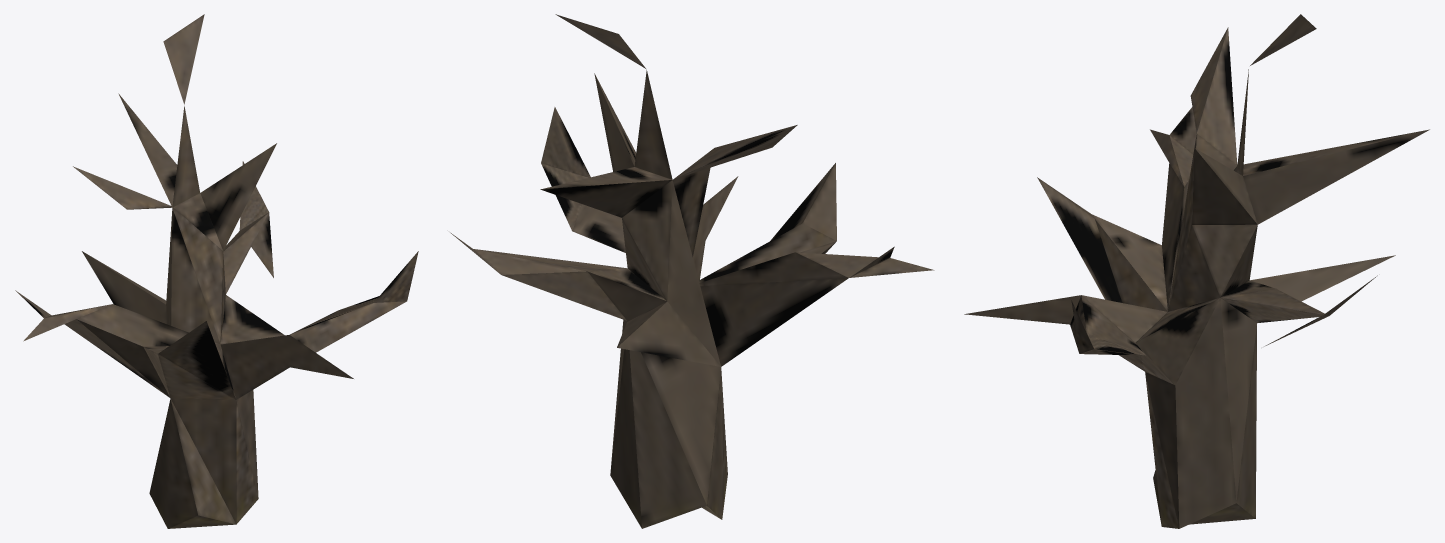
The picture shows the model from 3 angles, left to right: view 1: azimuth 30°, elevation 25°; view 2: azimuth 150°, elevation 25°; view 3: azimuth 270°, elevation 25°; orthographic projection. The views are drawn at different scales.
Parts seen in each view (by area): view 1: output_unwrapped; view 2: output_unwrapped; view 3: output_unwrapped.
Boxes of the visible parts, x1,y1,x2,y2 form: output_unwrapped: (15, 14, 418, 528); output_unwrapped: (450, 14, 934, 528); output_unwrapped: (964, 14, 1429, 528).
Size of the model in its own units: 1.4 by 1.67 by 1.36.
1 material, 1 textured.
